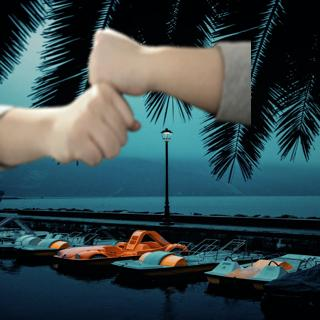CAREFUL: (14, 26, 224, 166)
